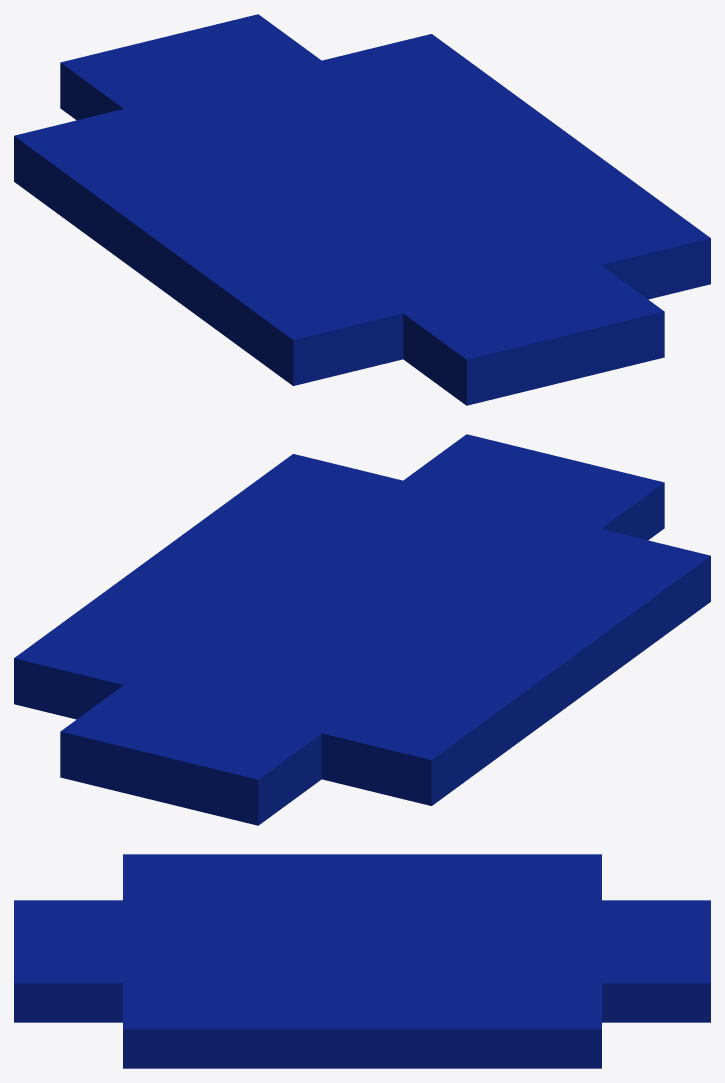
The model's file is jeans.glb.
3 renders of one model, top to bottom at view 1: azimuth 30°, elevation 25°; view 2: azimuth 150°, elevation 25°; view 3: azimuth 270°, elevation 25°, orthographic. The views are drawn at different scales.
Visible parts, largest first — view 1: jeans:folded-garment; view 2: jeans:folded-garment; view 3: jeans:folded-garment.
Part boxes in pixels (x1,y1,x2,y2): jeans:folded-garment: (14,14,710,405); jeans:folded-garment: (14,434,710,825); jeans:folded-garment: (14,854,710,1068).
Size of the model in its own units: 0.38 by 0.04 by 0.64.
